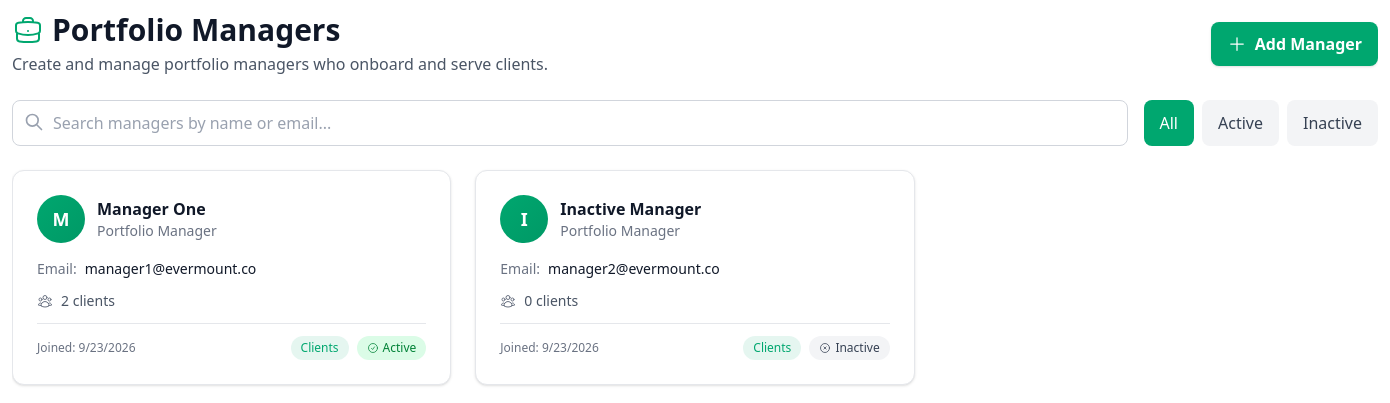
Test: AdminManagersPage › filters managers client-side via the search box
Expected: the heading "Manager One" is shown, [97,197,217,221]
Type "Inactive" into the field with placeholder "Search managers by name or email..." at (570, 123), box [12,100,1128,146]
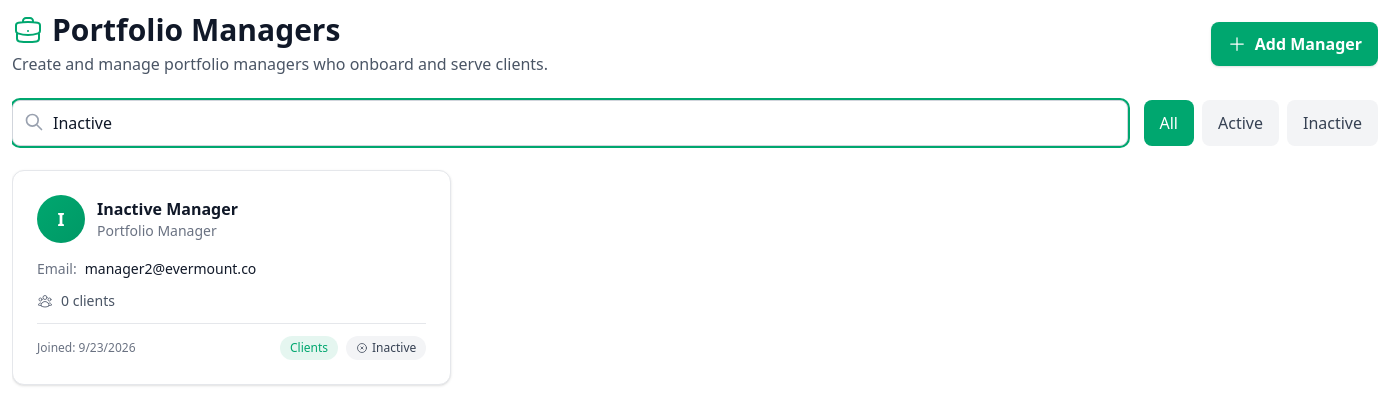
Expected: the heading "Inactive Manager" is shown, [97,197,238,221]
Expected: the heading "Manager One" is gone
